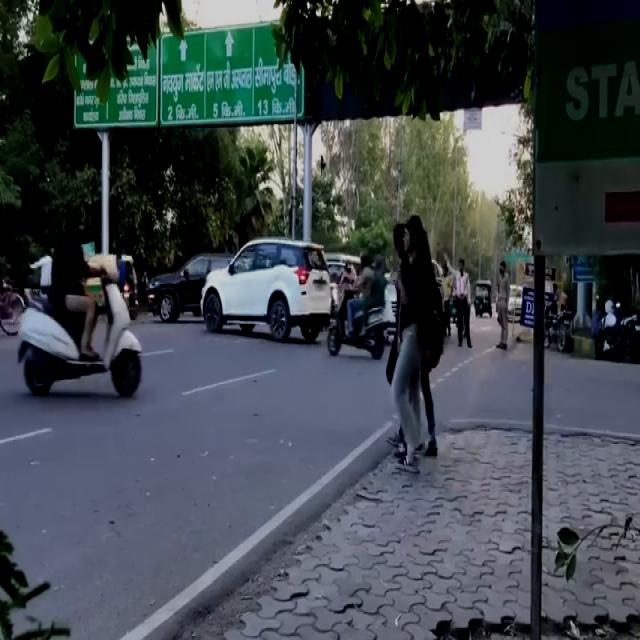MOTORCYCLE: (6, 260, 142, 406), (328, 277, 386, 361)
SUV: (203, 233, 331, 347)
